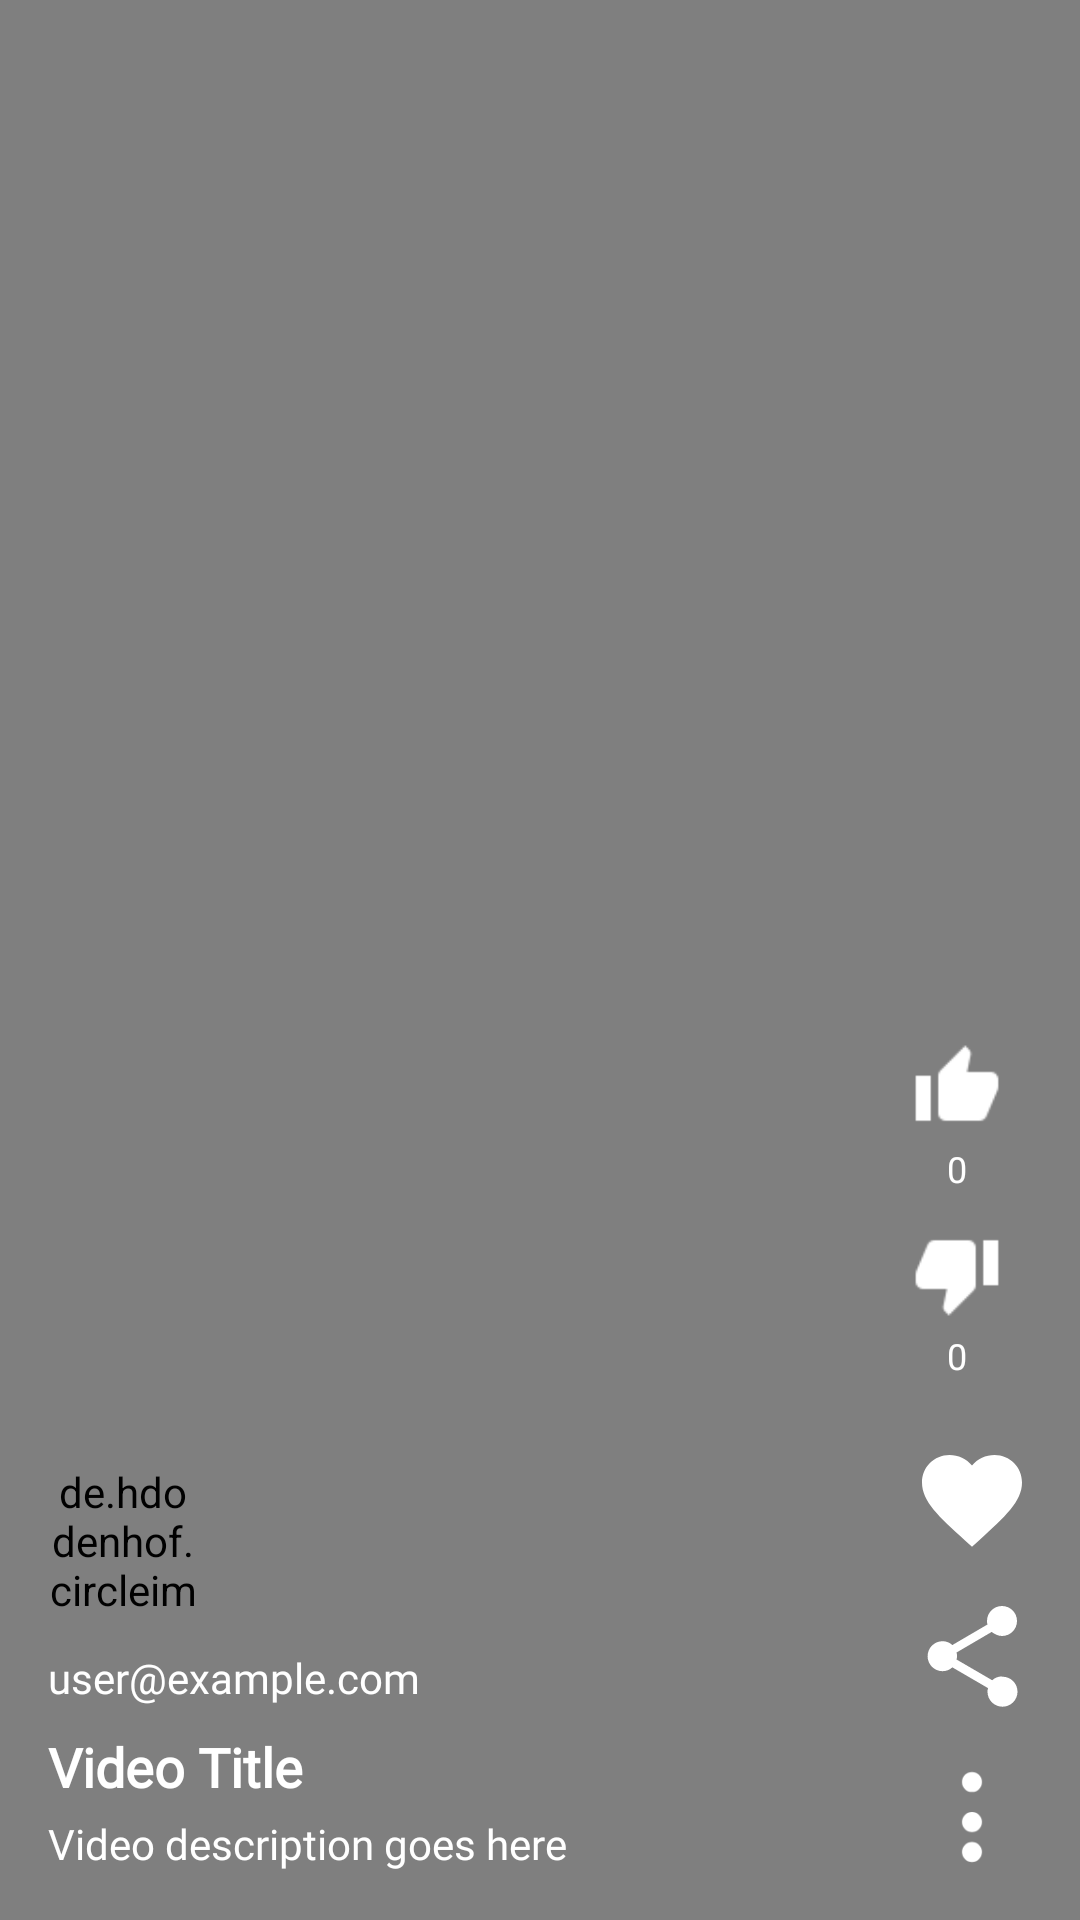

Named icons in this screenshot (1080*1920) and their bounding boxes, (x1, y1, x2, y2):
Dislike button: (915, 1240, 999, 1316)
Favorite button: (922, 1455, 1022, 1547)
Like button: (915, 1045, 999, 1121)
More options: (962, 1772, 982, 1862)
Share button: (927, 1606, 1018, 1707)
